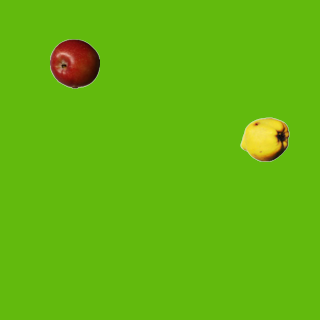Apple Braeburn: (49, 38, 99, 88)
Quince: (239, 114, 289, 164)
